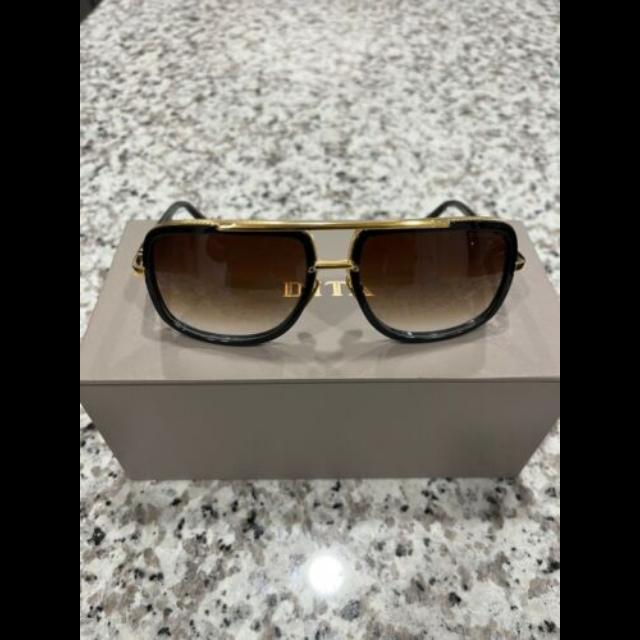sunglasses: (132, 198, 526, 348)
